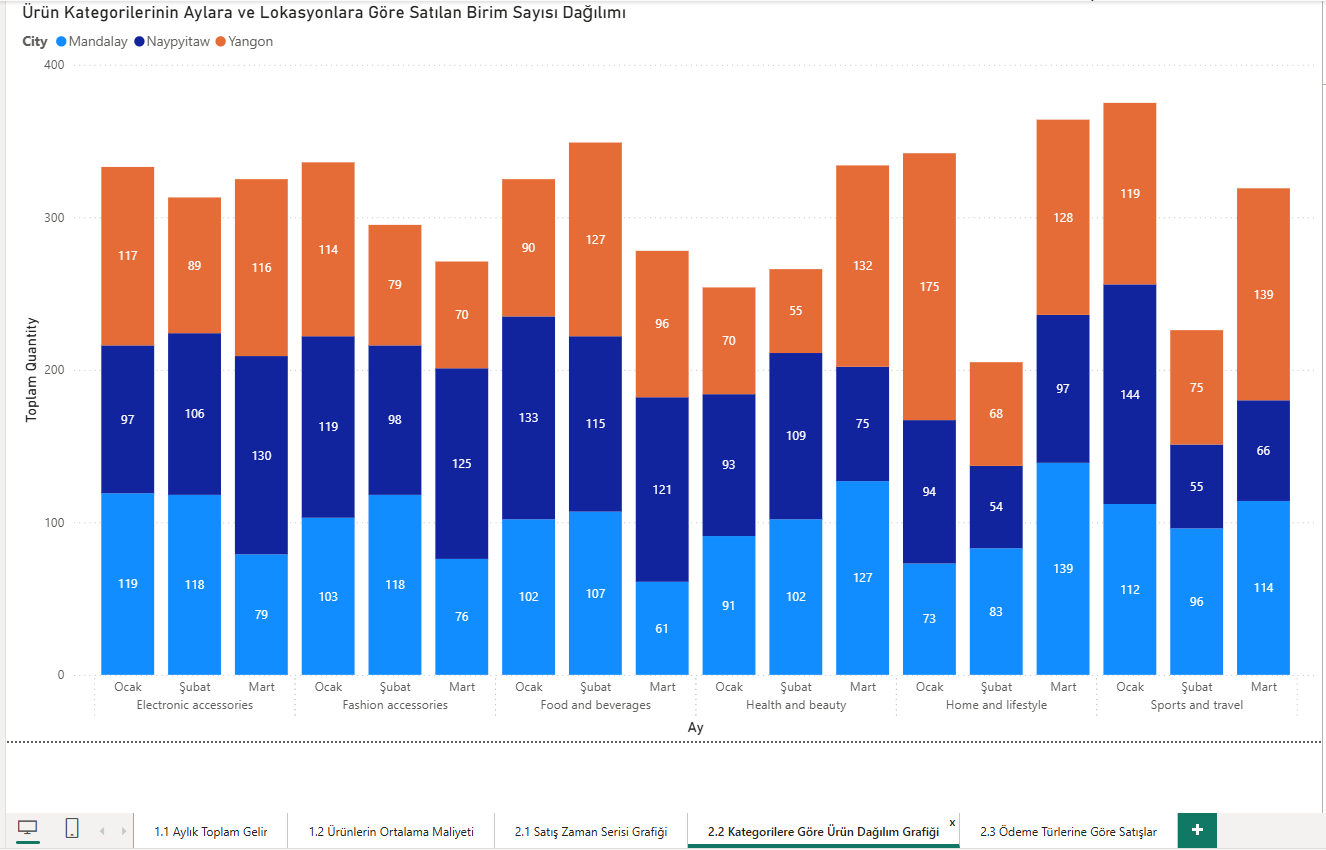

The dashboard page shown, as its layout file describes it:
{"tool":"powerbi","page":{"name":"2.2 Kategorilere Göre Ürün Dağılım Grafiği","canvas":[1280,720],"ordinal":3},"visuals":[{"type":"columnChart","title":"Ürün Kategorilerinin Aylara ve Lokasyonlara Göre Satılan Birim Sayısı Dağılımı","fields":{"Y":["Sum(supermarket_sales - Sheet1.Quantity)"],"Category":["supermarket_sales - Sheet1.Product line","supermarket_sales - Sheet1.Date.Varyasyon.Tarih Hiyerarşisi.Ay"],"Series":["supermarket_sales - Sheet1.City"]},"box":[10.4,0,1269.6,719.7],"z":0}]}

Visuals, with their boxes on the page's 1280x720 design canvas (x1, y1, x2, y2). These are canvas units, not pixel positions in the 1326x850 screenshot, which may show the page scaled, cropped or inside an application window:
"Ürün Kategorilerinin Aylara ve Lokasyonlara Göre Satılan Birim Sayısı Dağılımı" columnChart: (x1=10, y1=0, x2=1280, y2=720)
